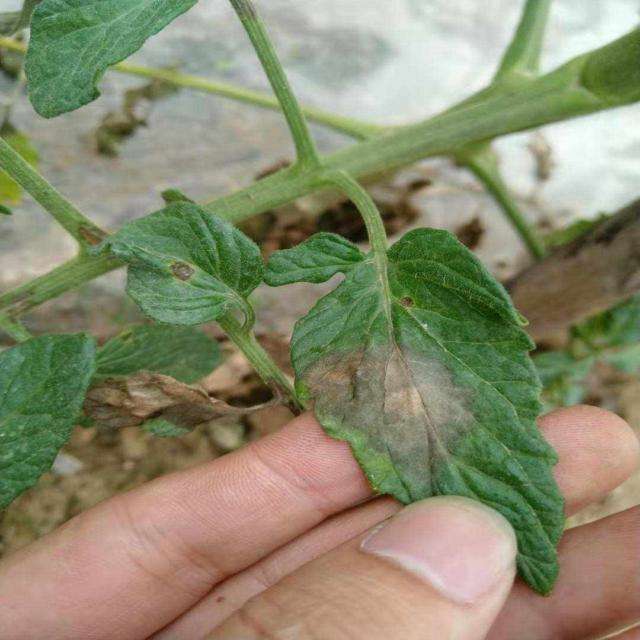Late_blight: (295, 339, 481, 495), (82, 375, 278, 434), (166, 257, 196, 284), (396, 288, 418, 309)
